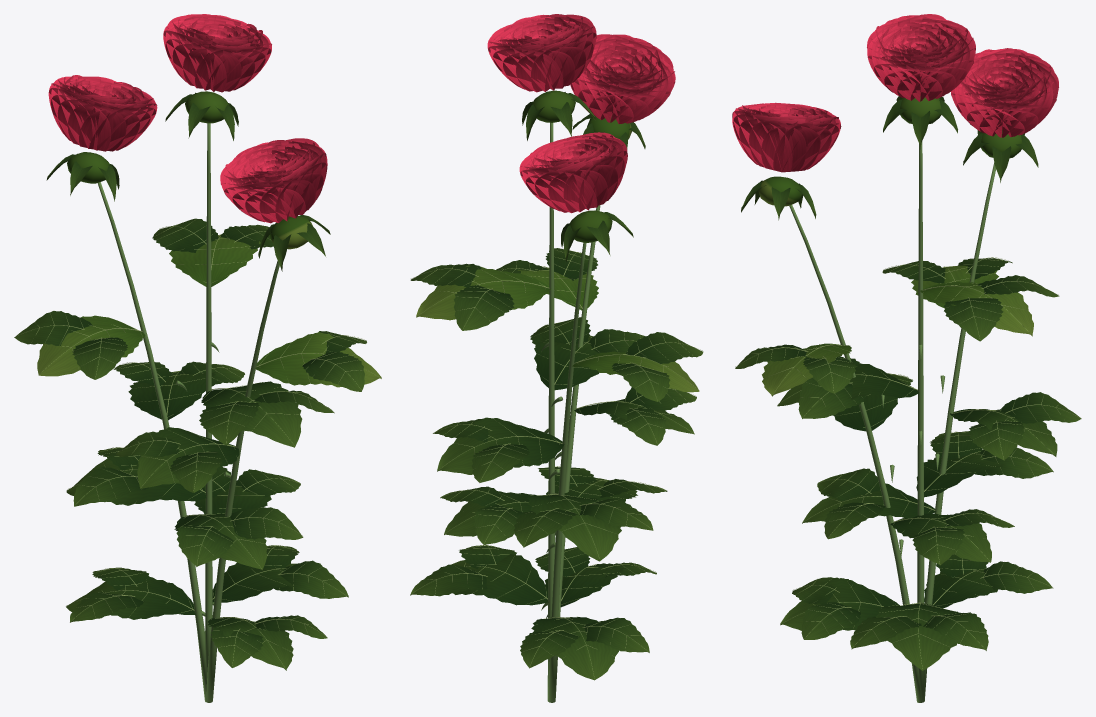
File: rose-09.glb
3 views of the same model, side by side, from view 1: azimuth 30°, elevation 25°; view 2: azimuth 150°, elevation 25°; view 3: azimuth 270°, elevation 25° (orthographic).
Parts seen in each view (by area): view 1: rose_stage_09_leaf_veins.016, rose_stage_09_rose_petal.016, rose_stage_09_young_leaf.016, rose_stage_09_stem_fibres.016, rose_stage_09_raised_midveins.016; view 2: rose_stage_09_leaf_veins.016, rose_stage_09_rose_petal.016, rose_stage_09_young_leaf.016, rose_stage_09_stem_fibres.016, rose_stage_09_raised_midveins.016; view 3: rose_stage_09_leaf_veins.016, rose_stage_09_rose_petal.016, rose_stage_09_young_leaf.016, rose_stage_09_stem_fibres.016, rose_stage_09_raised_midveins.016.
Boxes of the visible parts, box(x1,y1,x2,y2) form: rose_stage_09_leaf_veins.016: box(14, 92, 366, 670); rose_stage_09_rose_petal.016: box(48, 14, 327, 223); rose_stage_09_young_leaf.016: box(37, 91, 381, 387); rose_stage_09_stem_fibres.016: box(97, 123, 279, 702); rose_stage_09_raised_midveins.016: box(14, 220, 379, 667); rose_stage_09_leaf_veins.016: box(410, 92, 703, 680); rose_stage_09_rose_petal.016: box(487, 14, 675, 213); rose_stage_09_young_leaf.016: box(416, 90, 699, 392); rose_stage_09_stem_fibres.016: box(541, 122, 600, 702); rose_stage_09_raised_midveins.016: box(411, 250, 702, 678); rose_stage_09_leaf_veins.016: box(735, 96, 1081, 670); rose_stage_09_rose_petal.016: box(732, 14, 1058, 172); rose_stage_09_young_leaf.016: box(758, 96, 1033, 396); rose_stage_09_stem_fibres.016: box(789, 141, 995, 702); rose_stage_09_raised_midveins.016: box(735, 257, 1078, 668).
Bounding box in the file's own units: 0.3269 × 0.7411 × 0.3489.
Materials: 5 (3 with a texture image).
